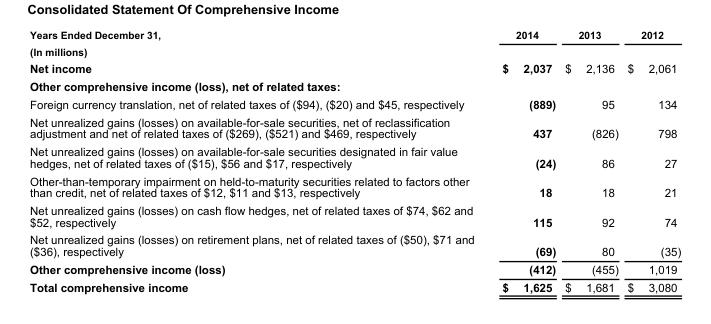table: (29, 28, 680, 293)
table column: (29, 28, 487, 293), (487, 28, 559, 293), (559, 28, 622, 293), (622, 28, 680, 293)
table column header: (29, 28, 680, 42)
table projected row header: (29, 77, 680, 95), (29, 42, 680, 59)
table row: (29, 171, 680, 201), (29, 113, 680, 142), (29, 142, 680, 171), (29, 201, 680, 230), (29, 230, 680, 259), (29, 59, 680, 77), (29, 77, 680, 95), (29, 95, 680, 113), (29, 259, 680, 277), (29, 42, 680, 59), (29, 277, 680, 293), (29, 28, 680, 42)
